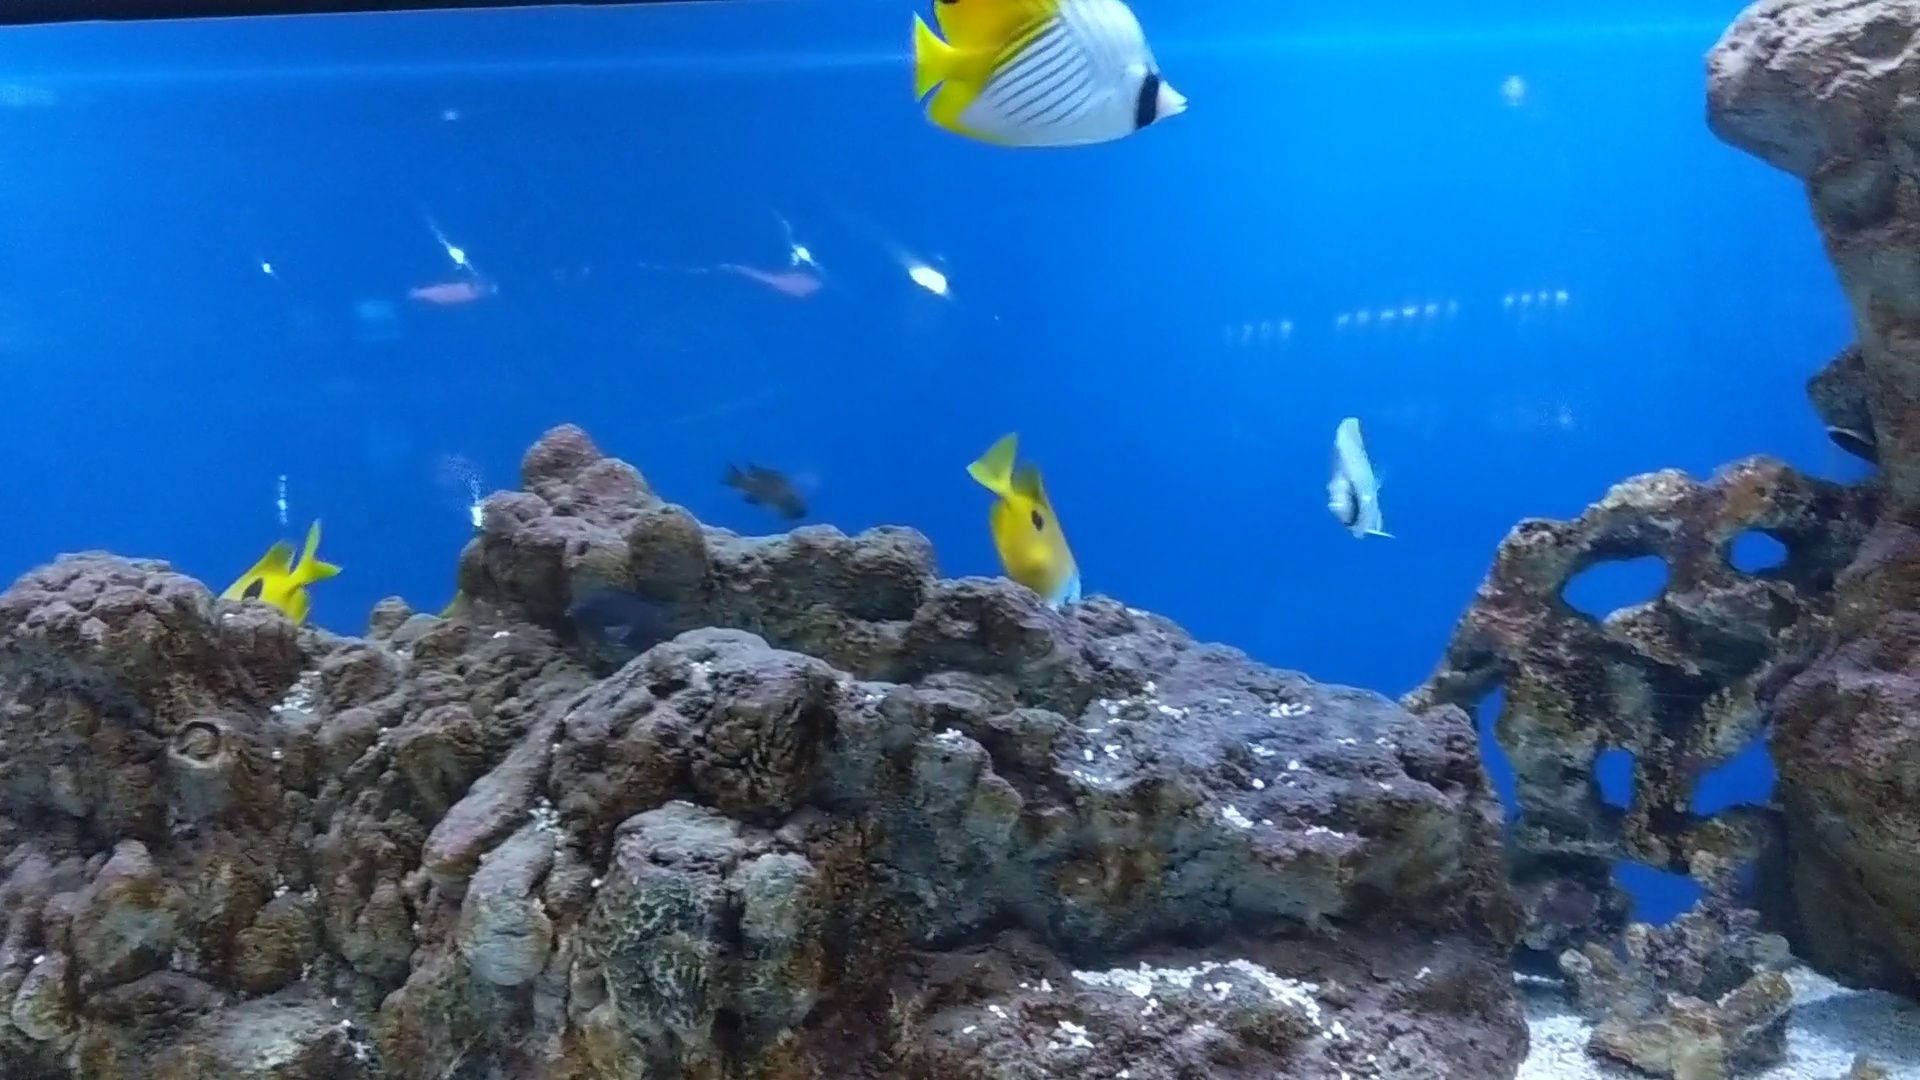butterflyfish: (901, 0, 1195, 146)
moorfish: (1327, 406, 1400, 560)
rabbitfish: (951, 429, 1098, 622), (220, 518, 351, 622)
